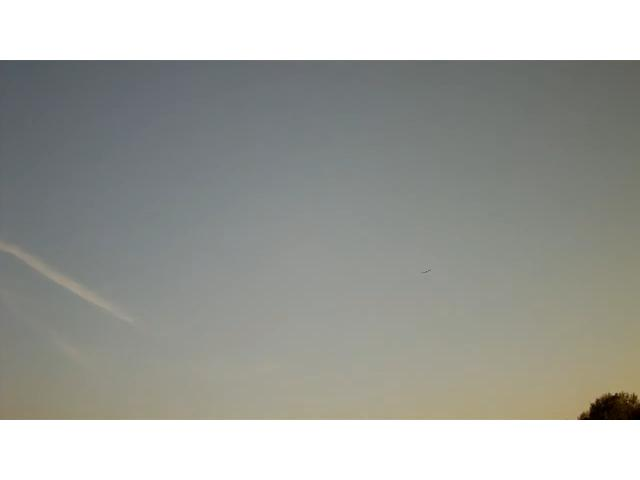Anti-Drone: (414, 264, 440, 278)
